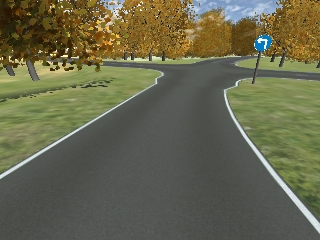left: (254, 33, 271, 50)
